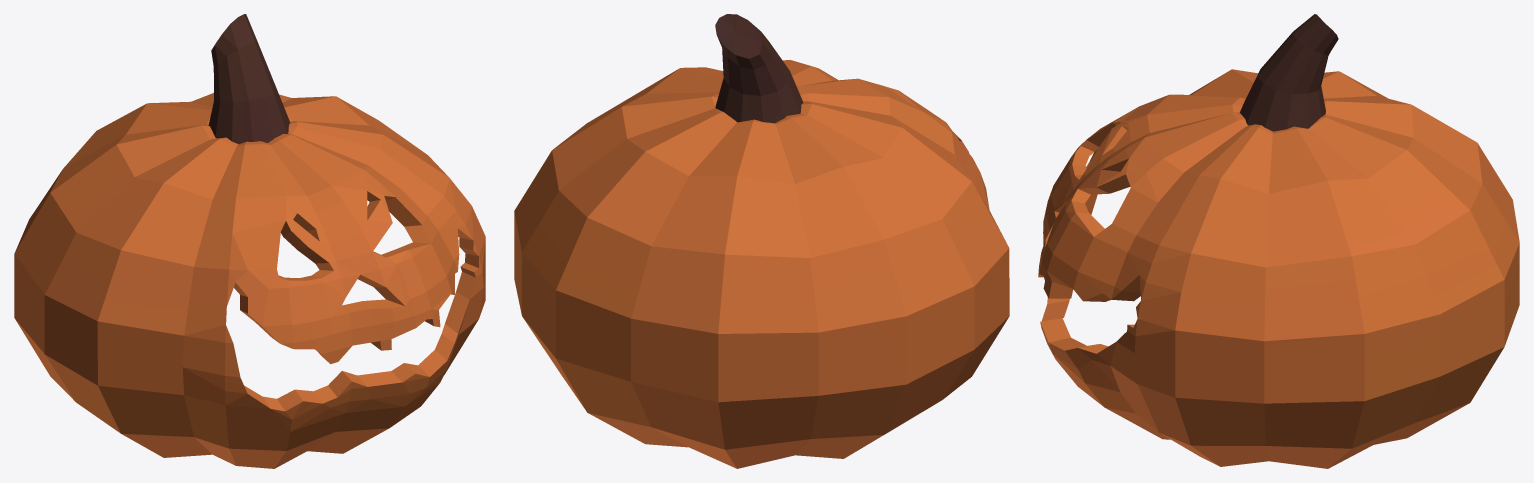
The model's file is Pumpkin-transformed.glb.
The picture shows the model from 3 angles, left to right: view 1: azimuth 30°, elevation 25°; view 2: azimuth 150°, elevation 25°; view 3: azimuth 270°, elevation 25°; orthographic projection. The views are drawn at different scales.
Parts seen in each view (by area): view 1: Pumpkin; view 2: Pumpkin; view 3: Pumpkin.
Boxes of the visible parts, <box> form: Pumpkin: <box>14,14,485,468</box>; Pumpkin: <box>514,14,1009,468</box>; Pumpkin: <box>1038,14,1519,468</box>.
Size of the model in its own units: 0.305 by 0.2832 by 0.3.
1 material, 1 textured.
